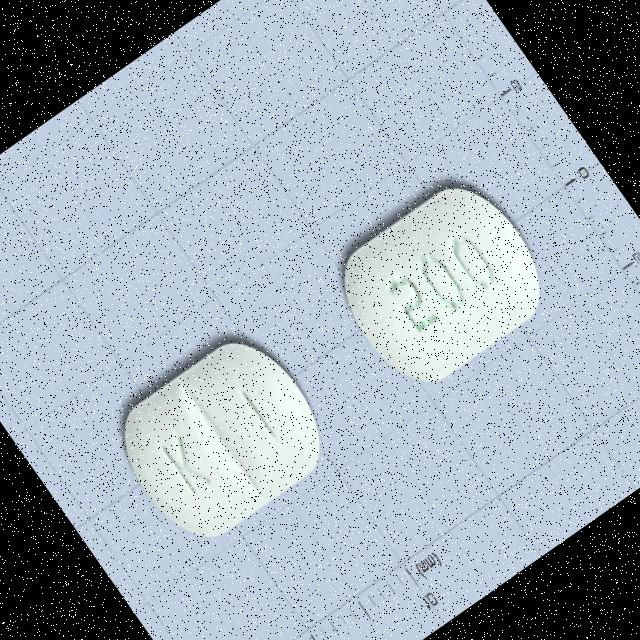Amocla: (314, 158, 572, 410), (96, 314, 352, 565)
